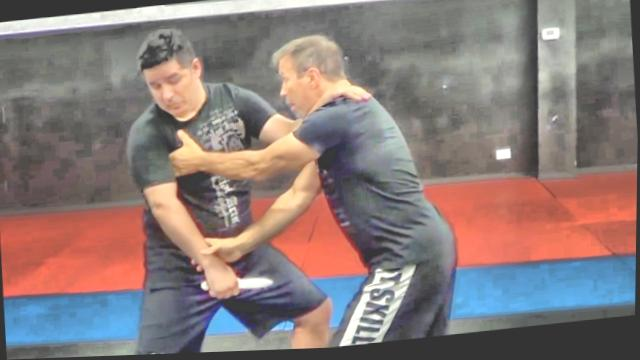knife: (198, 272, 276, 300)
